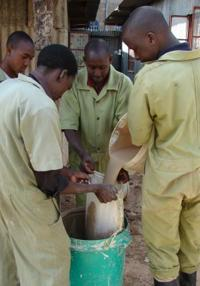person: (121, 6, 199, 282)
